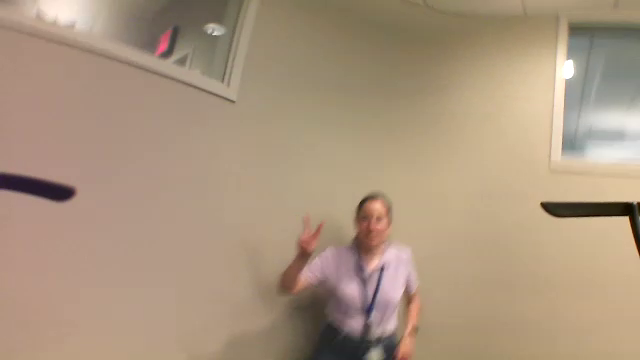peace: (287, 209, 332, 256)
